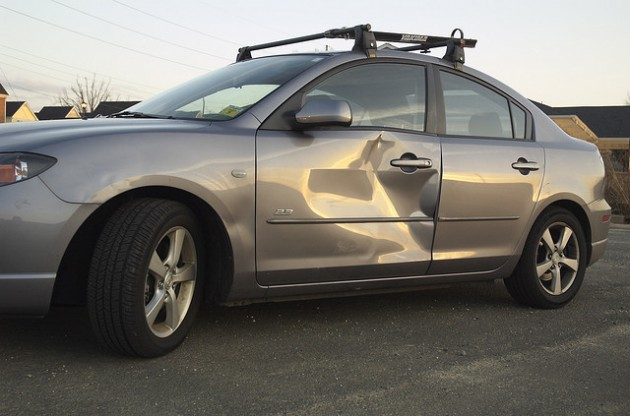car_dent: (311, 147, 443, 267)
